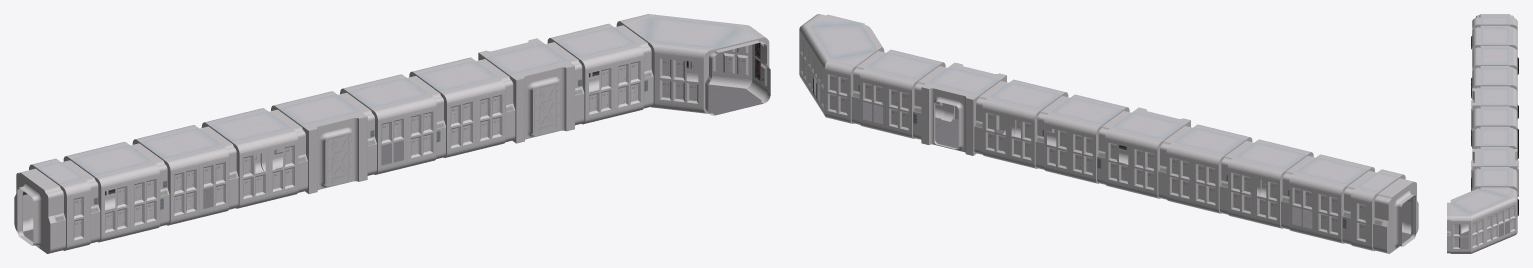
Rendered from thm_spc_corvette_dungeon_r2_hall2_mesh_r2.fbx.
3 renders of one model, left to right at view 1: azimuth 30°, elevation 25°; view 2: azimuth 150°, elevation 25°; view 3: azimuth 270°, elevation 25°, orthographic. The views are drawn at different scales.
Parts seen in each view (by area): view 1: mesh_node; view 2: mesh_node; view 3: mesh_node.
Boxes of the visible parts, <box> form: mesh_node: <box>14,14,770,253</box>; mesh_node: <box>799,14,1418,253</box>; mesh_node: <box>1447,14,1518,253</box>.
Bounding box in the file's own units: 41 × 3.5 × 6.
